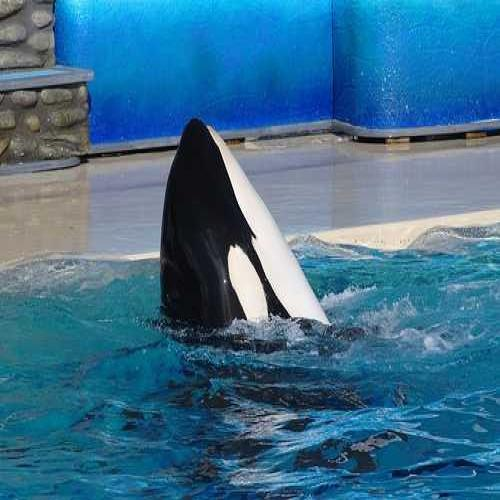killer_whale-endangered: (143, 98, 398, 387)
